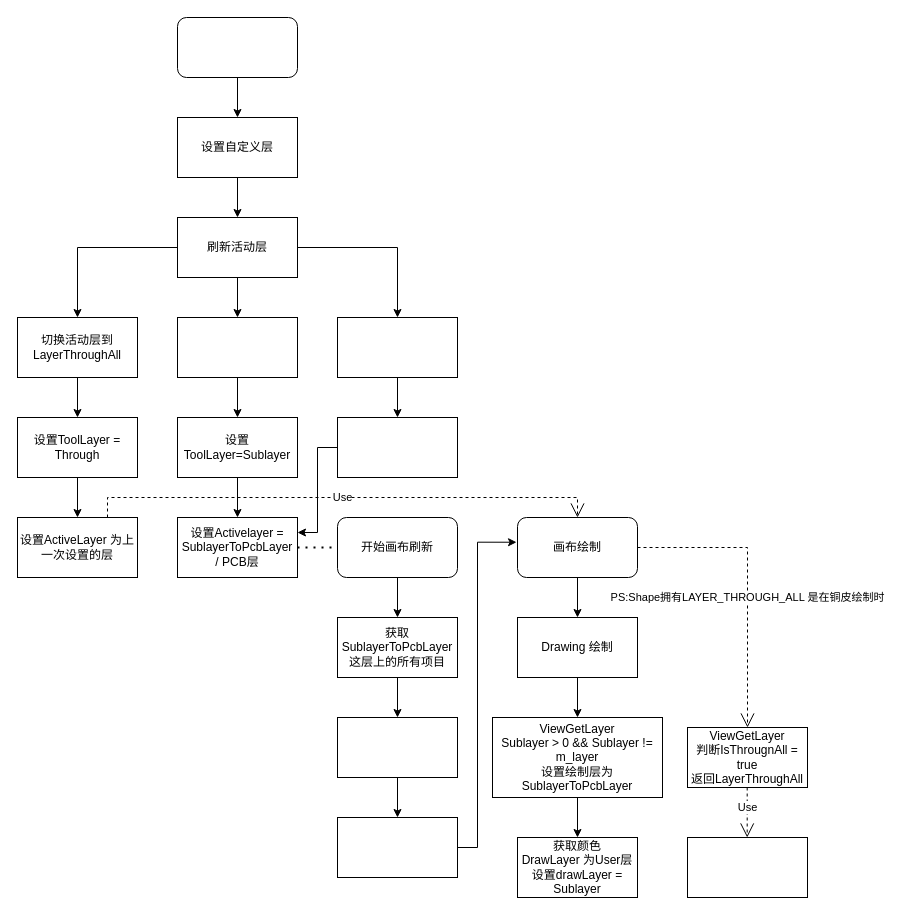
This 902x915 diagram has some shape labels left out. The shapes that lost their labels are listed below. From the top down, each one's centre as x and y in pixels, then its label:
At [237,47]: "开始".
At [237,347]: "切换活动层到自定义层".
At [397,347]: "切换为PCB层".
At [397,447]: "设置ToolLayer = PCB层".
At [397,747]: "判断项目是否在Sublayer 上".
At [397,847]: "更新项目状态".
At [747,867]: "获取颜色判断IsThroughAll = true 设置LayerThroughALL".
